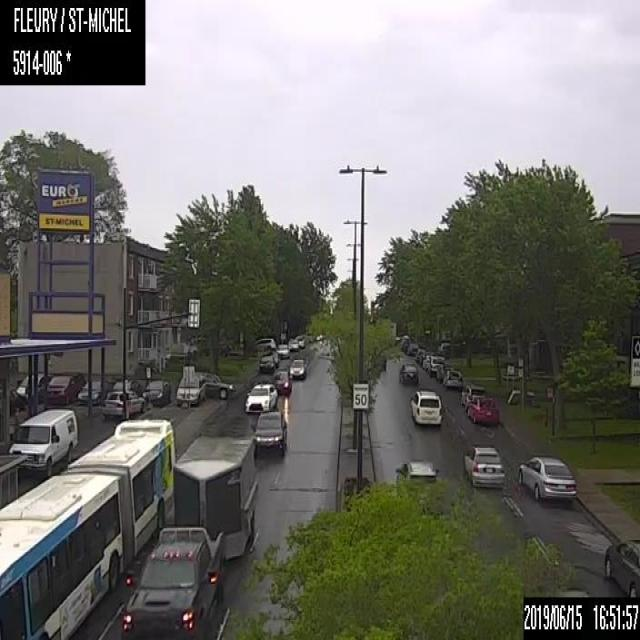bus: (0, 413, 177, 638)
vehicle: (119, 430, 261, 638), (8, 407, 78, 476), (515, 452, 577, 503), (601, 535, 639, 593), (462, 442, 504, 489), (252, 409, 287, 456), (408, 386, 444, 426), (394, 454, 438, 482), (44, 371, 82, 403), (242, 380, 278, 413), (102, 388, 144, 416), (193, 370, 232, 399), (15, 369, 48, 400), (175, 374, 204, 406), (142, 376, 171, 407), (464, 397, 498, 422), (78, 376, 104, 404), (460, 381, 486, 408), (272, 369, 291, 394), (398, 362, 418, 384), (443, 367, 464, 387), (289, 357, 307, 380), (426, 354, 444, 376), (258, 353, 275, 370), (276, 342, 289, 357), (288, 338, 300, 352)
